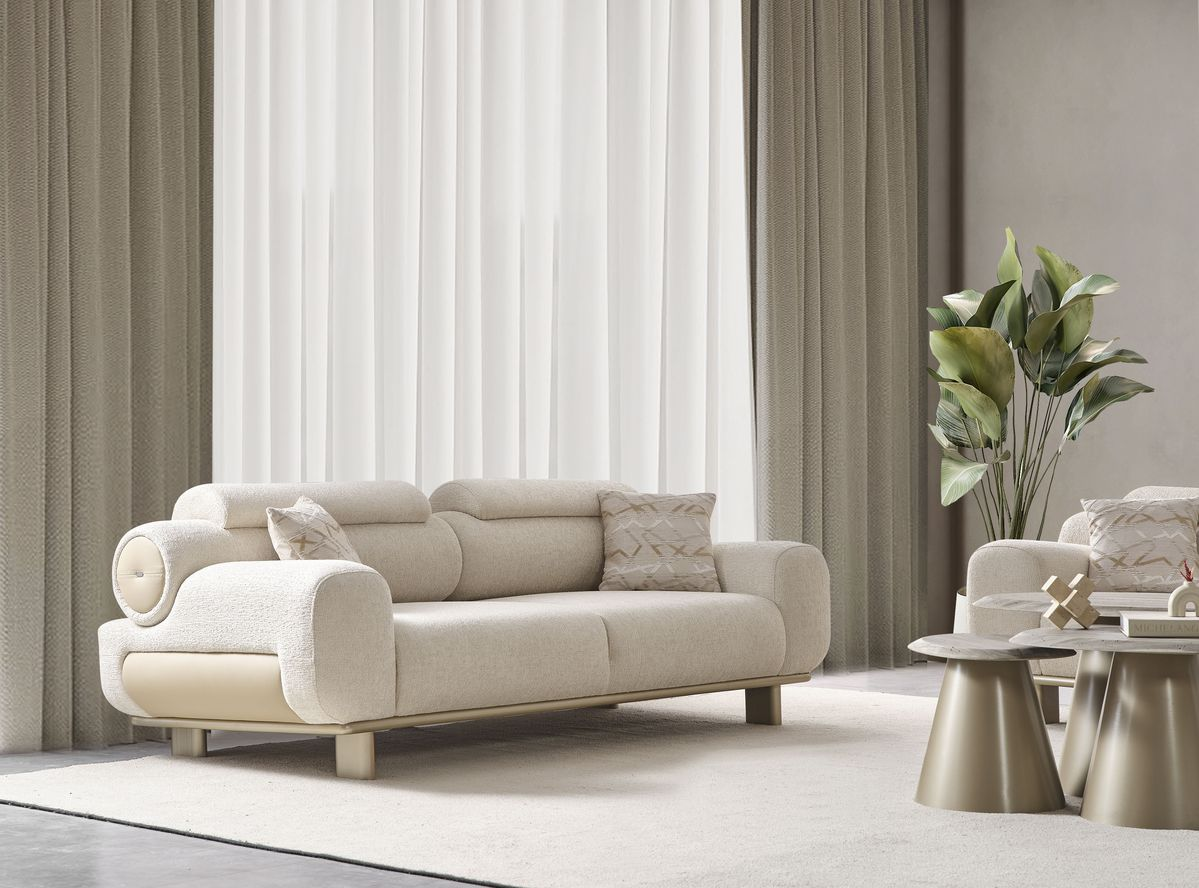3seatersofa: (98, 479, 829, 776)
backrest: (113, 479, 624, 624)
base: (135, 676, 809, 738)
leftarmrest: (715, 541, 829, 673)
leg: (336, 732, 373, 778), (747, 686, 780, 723), (172, 729, 206, 754)
pillow: (600, 491, 720, 590), (267, 496, 359, 560)
rightarmrest: (100, 560, 395, 724)
seat: (389, 591, 810, 715)
